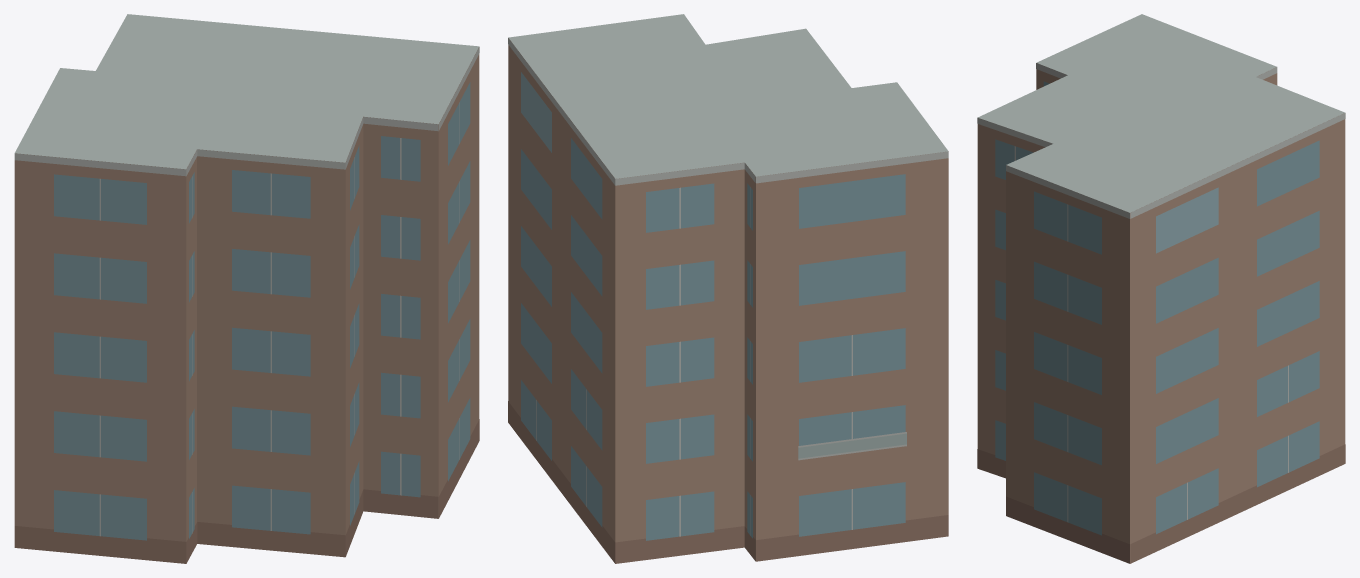
Rendered from survey-upis-32883705.glb.
3 views of the same model, side by side, from view 1: azimuth 30°, elevation 25°; view 2: azimuth 150°, elevation 25°; view 3: azimuth 270°, elevation 25° (orthographic). The views are drawn at different scales.
Visible parts, largest first — view 1: survey-upis-32883705.tmp; view 2: survey-upis-32883705.tmp; view 3: survey-upis-32883705.tmp.
Part boxes in pixels (box(x1,y1,x2,y2)): survey-upis-32883705.tmp: box(14, 14, 479, 563); survey-upis-32883705.tmp: box(508, 14, 948, 563); survey-upis-32883705.tmp: box(977, 14, 1345, 563).
Size of the model in its own units: 16.78 by 13.8 by 13.12.
